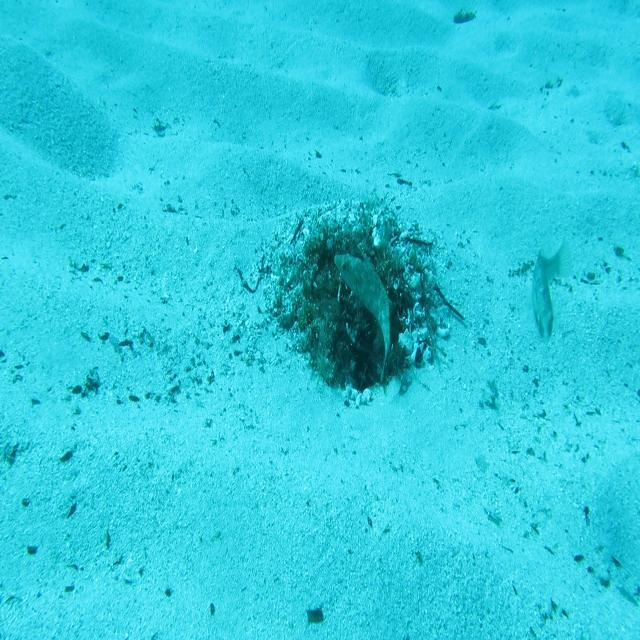LF: (331, 246, 398, 386)
core_nest: (327, 242, 367, 282)
female: (526, 229, 578, 352)
nest: (261, 182, 458, 420)
vegetation: (453, 10, 477, 25), (306, 606, 324, 622)
